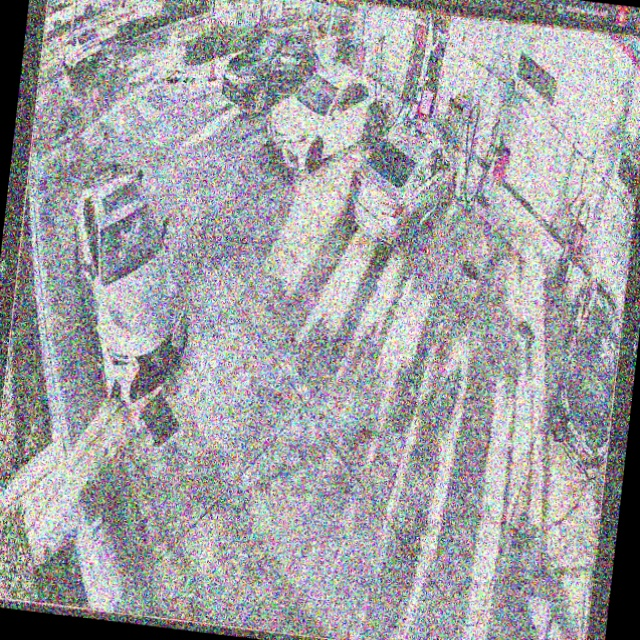Car: (56, 159, 208, 414), (344, 124, 462, 254), (264, 58, 388, 179)
